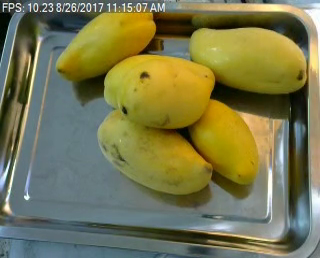Mango: (97, 109, 210, 194), (54, 5, 156, 81), (190, 27, 306, 92), (115, 58, 211, 129), (104, 54, 214, 112), (189, 98, 260, 186)
